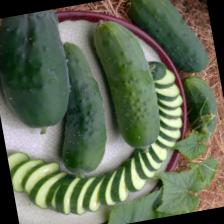cucumber: (40, 37, 116, 182), (89, 12, 164, 153), (0, 7, 77, 134), (126, 0, 210, 82), (178, 71, 223, 140)
